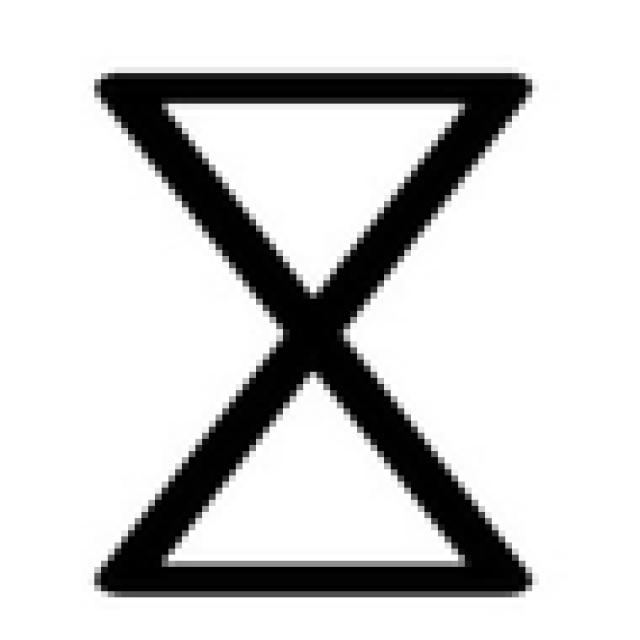Gate valve: (112, 86, 509, 331), (131, 333, 494, 574)
